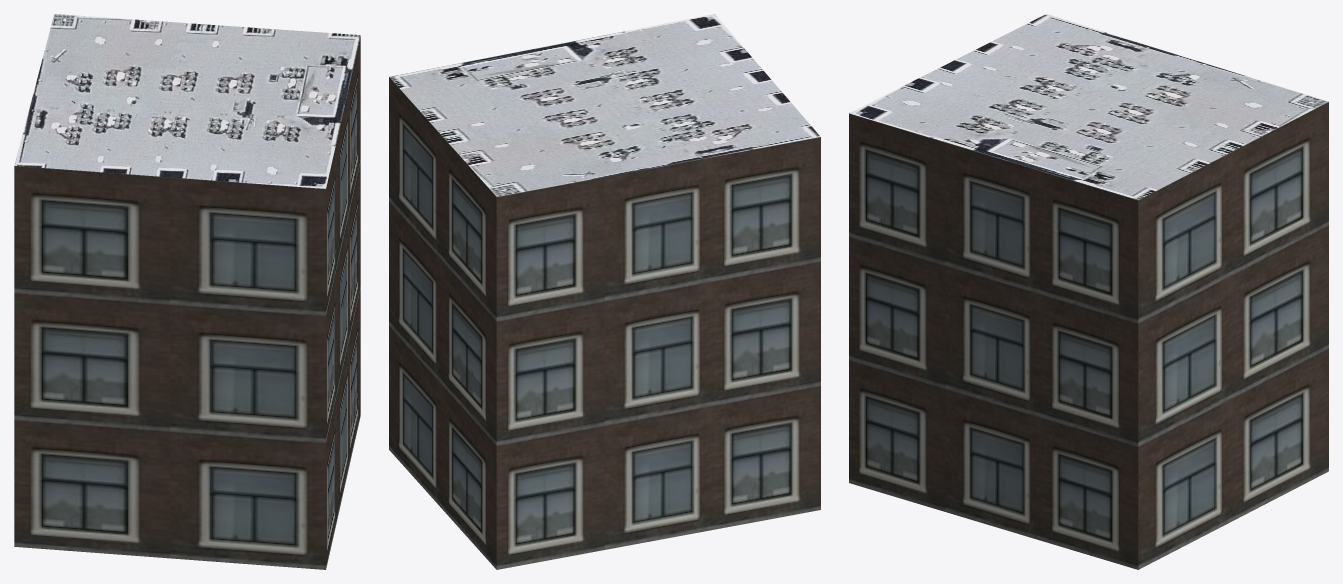
The model's file is ResTex__4923.fbx.
3 views of the same model, side by side, from view 1: azimuth 30°, elevation 25°; view 2: azimuth 150°, elevation 25°; view 3: azimuth 270°, elevation 25° (orthographic). The views are drawn at different scales.
Parts seen in each view (by area): view 1: CityEngineMaterial_16_m, CityEngineMaterial_15_m; view 2: CityEngineMaterial_16_m, CityEngineMaterial_15_m; view 3: CityEngineMaterial_16_m, CityEngineMaterial_15_m.
Boxes of the visible parts, x1,y1,x2,y2 form: CityEngineMaterial_16_m: (14,36,360,569); CityEngineMaterial_15_m: (14,14,360,188); CityEngineMaterial_16_m: (389,77,820,569); CityEngineMaterial_15_m: (389,14,820,196); CityEngineMaterial_16_m: (849,102,1328,569); CityEngineMaterial_15_m: (849,14,1328,200).
Size of the model in its own units: 9.73 by 9 by 10.59.
2 materials, 2 textured.
